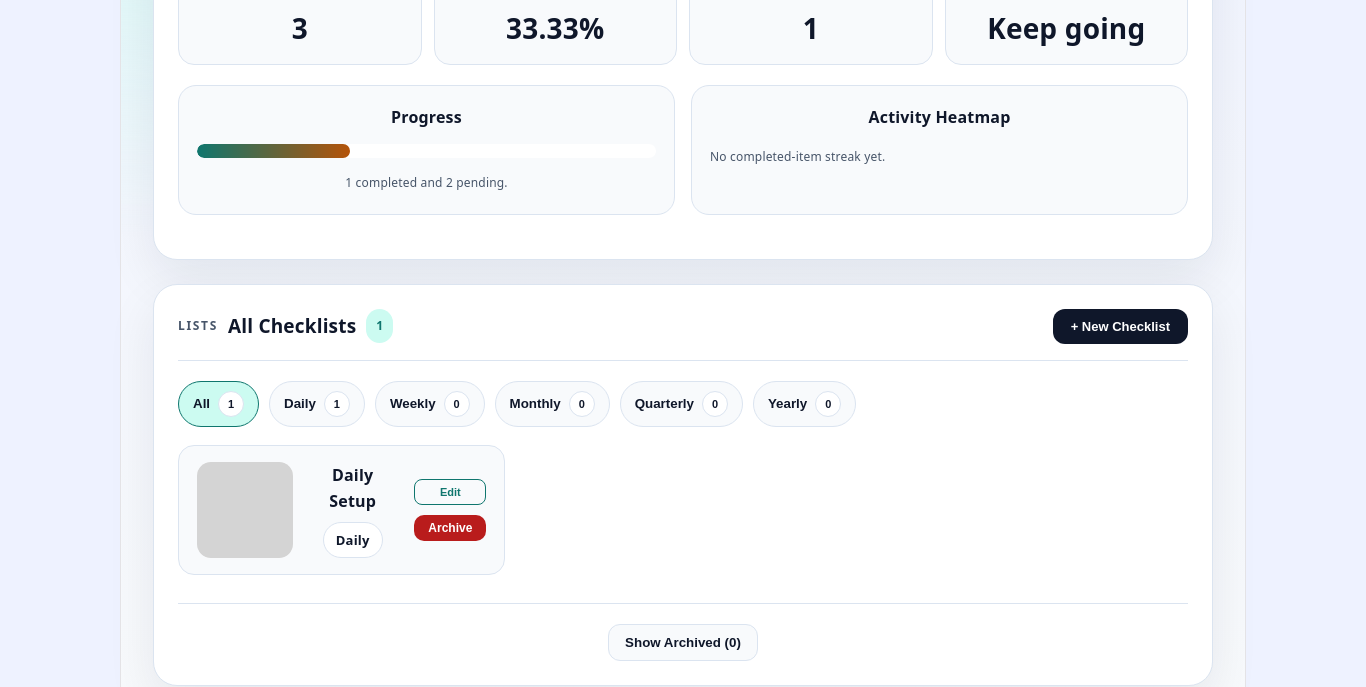
Scenario: Dashboard › shows bulk priority failure errors
(page scrolled)
Click the text "Daily Setup".
click(353, 488)  # box 329,464 -> 376,512
(page scrolled)
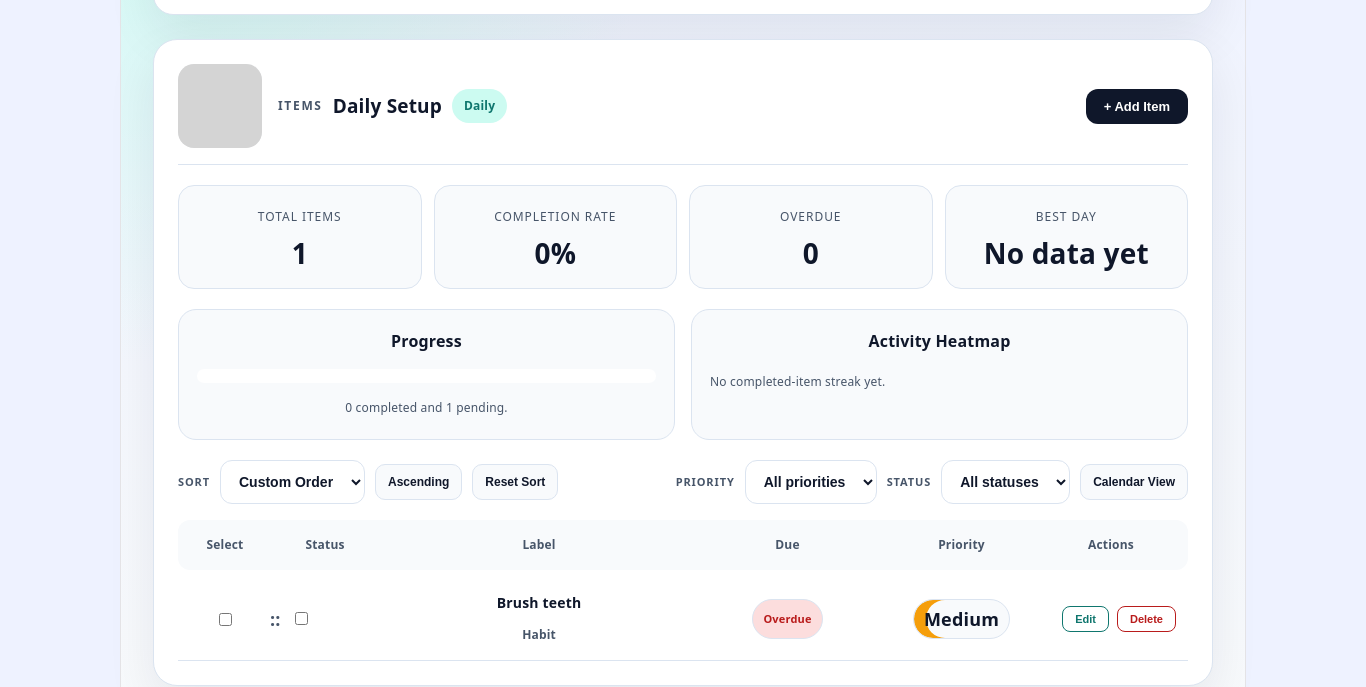
Check: the text "Brush teeth" is shown, box 497,593 -> 581,612
Click the 1st checkbox.
click(226, 619)  # box 219,613 -> 232,626
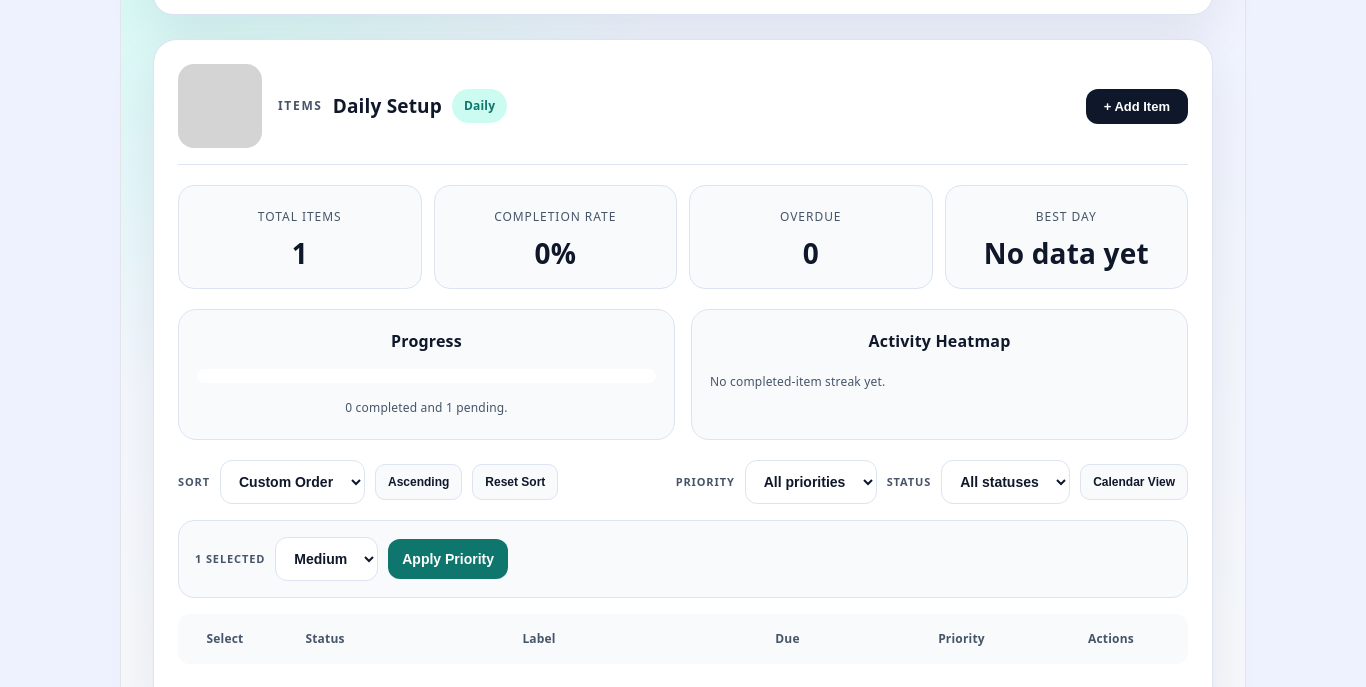
Click the button "Apply Priority".
click(448, 559)  # box 388,539 -> 508,579
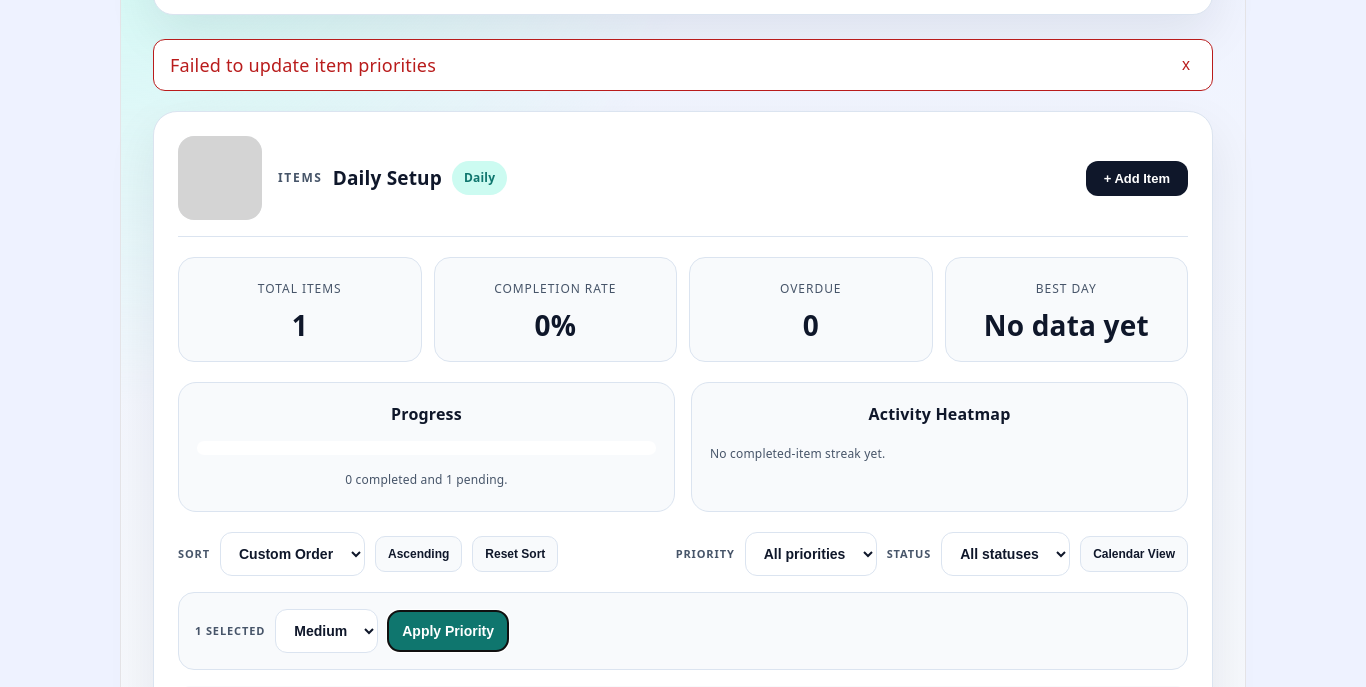
Check: the text "Failed to update item priorities x" is shown, box 153,39 -> 1213,91
